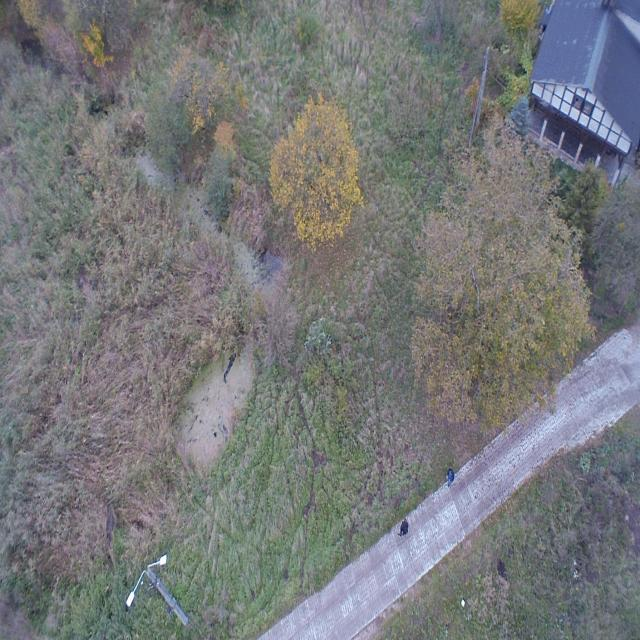p3rson: (398, 518, 408, 538), (446, 468, 454, 487)
